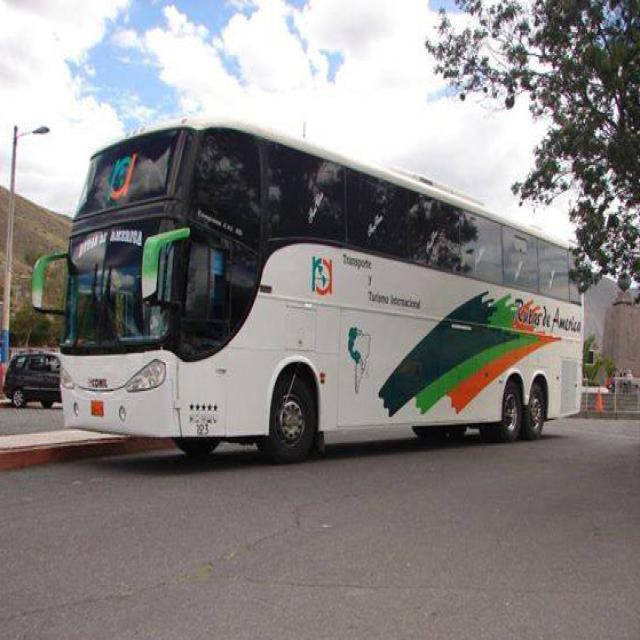BUS: (64, 129, 586, 438)
